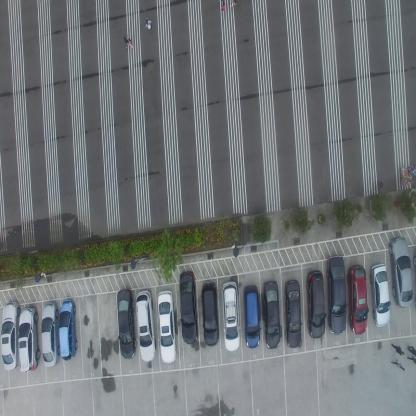car: (389, 235, 413, 307), (134, 288, 156, 363), (326, 253, 346, 334), (347, 264, 369, 335), (18, 304, 40, 374), (178, 270, 198, 345), (157, 288, 176, 365), (116, 288, 136, 361), (305, 270, 325, 339), (221, 280, 240, 351), (1, 301, 20, 372), (369, 262, 390, 326), (201, 280, 220, 347), (284, 280, 302, 350), (262, 280, 280, 350), (42, 300, 60, 368), (59, 299, 77, 361), (243, 286, 260, 348)
